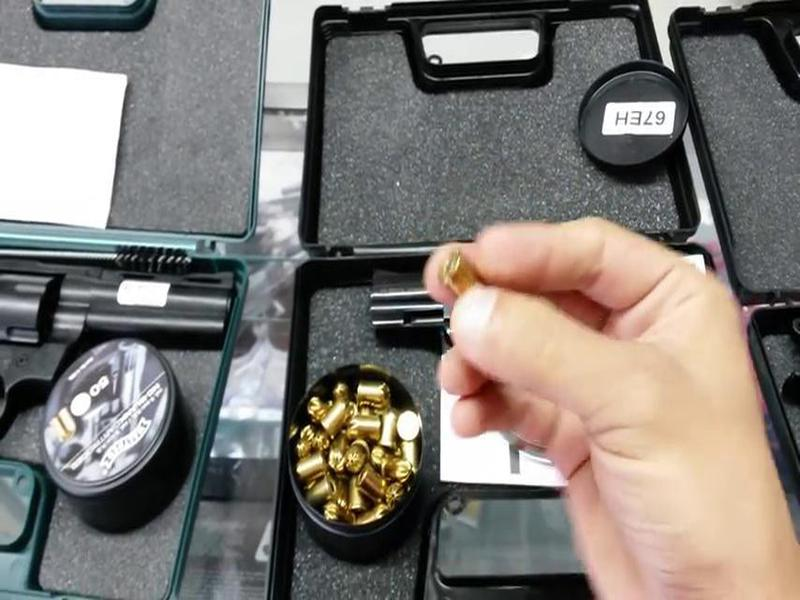Revolver: (4, 217, 250, 435)
